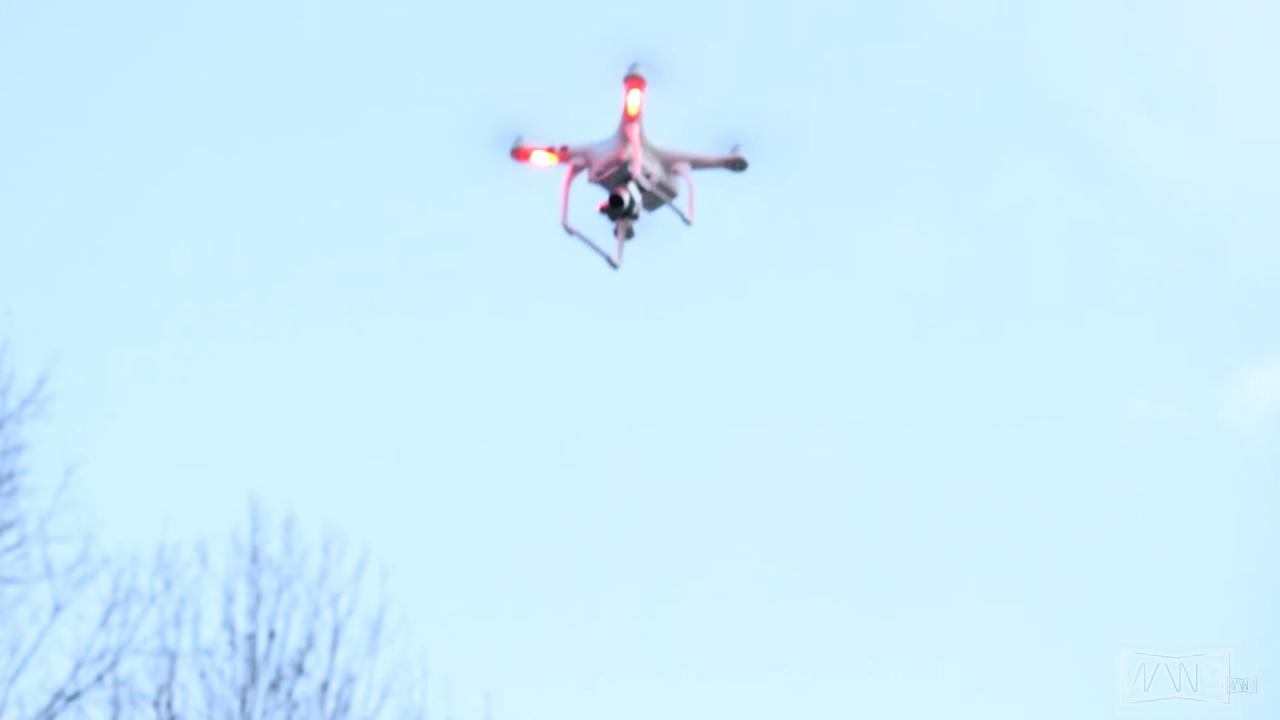Drone: (474, 42, 781, 288)
